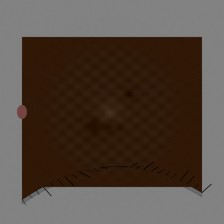hemorrhage_spot: (99, 98, 169, 153)
